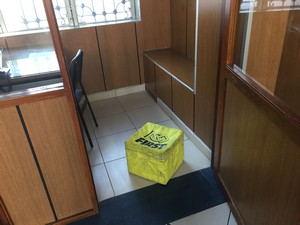cube: (124, 122, 186, 187)
